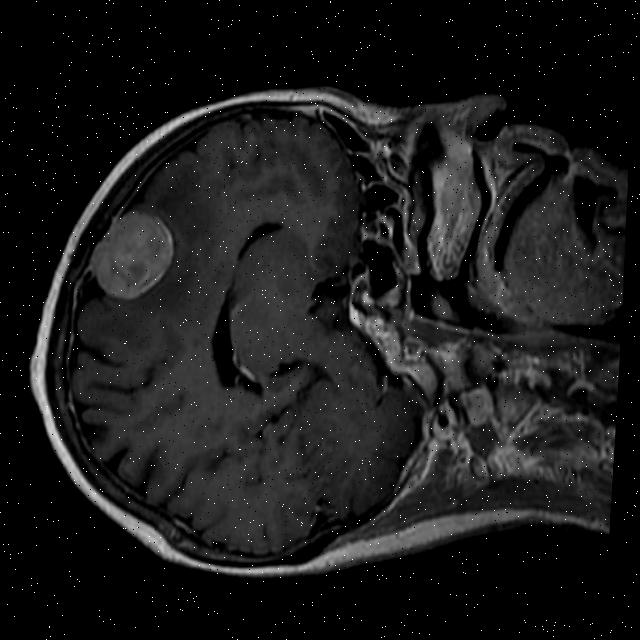Meningioma: (84, 207, 177, 301)
